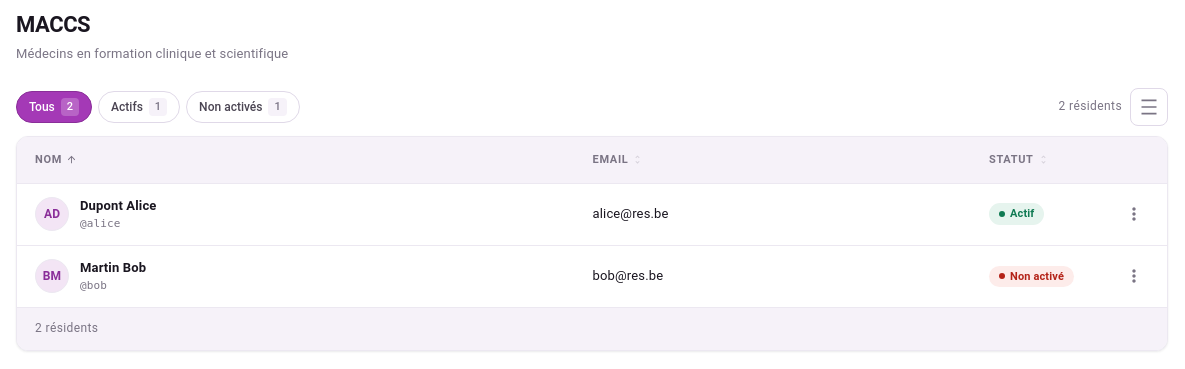
AdminResidentsPage › opens actions menu on MoreVert click
The width and height of the screenshot is (1185, 369).
Expected: the text "Dupont Alice" is shown, [80,196,156,215]
Click the button with test id "MoreVertIcon" at (1134,214), box [1119,199,1149,229]
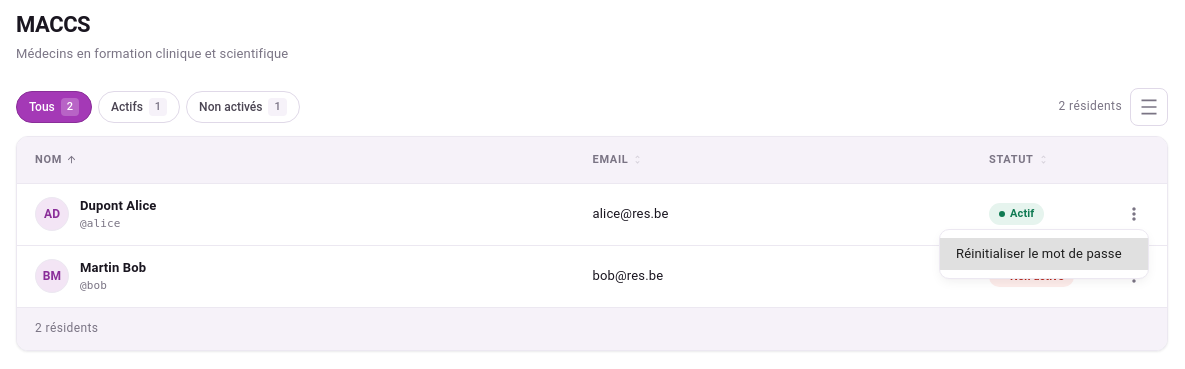
Expected: the menu item "Réinitialiser le mot de passe" is shown, [940,238,1148,270]
